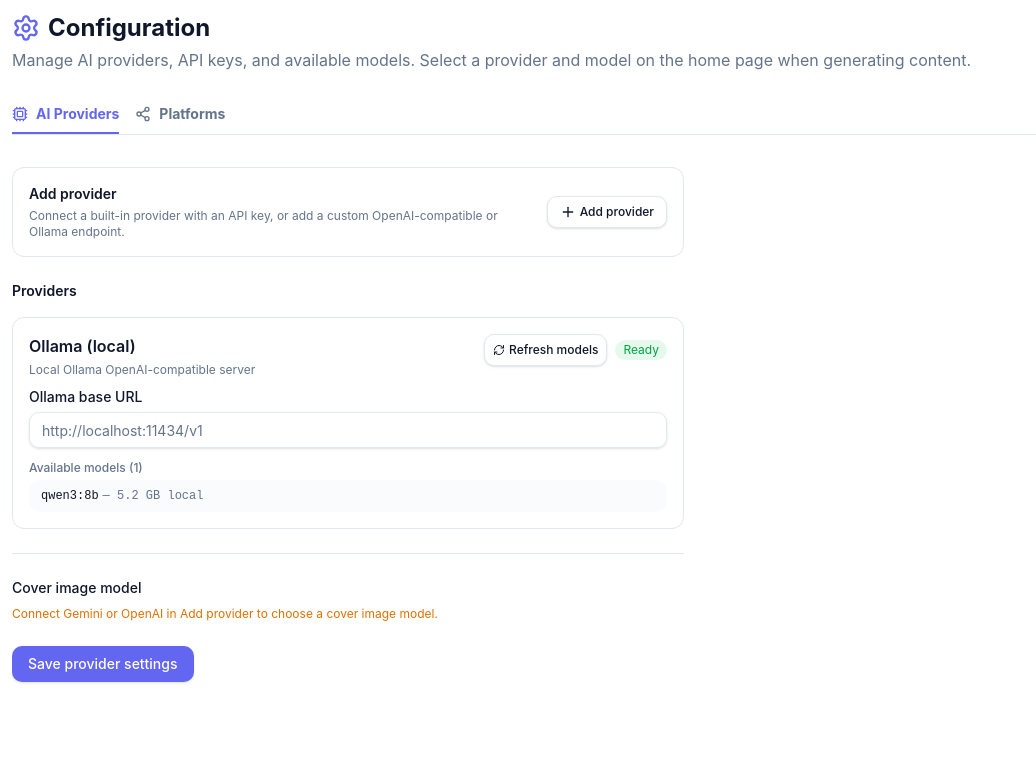
it: SettingsPage › refreshes provider models when refresh is clicked
The image size is (1036, 780).
Expected: the heading "Ollama (local)" is shown, [29,336,136,356]
Click the button "Refresh models". click: (546, 350)
box: [484,334,607,366]
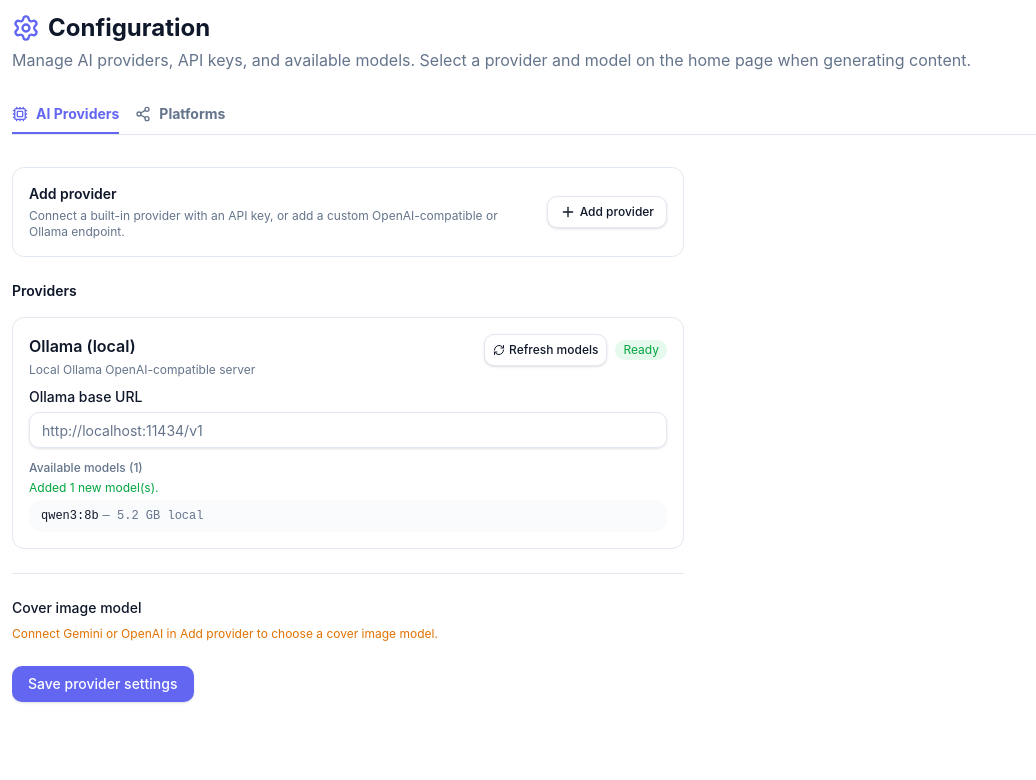
Expected: the text "Added 1 new model(s)." is shown, [29,480,158,495]
